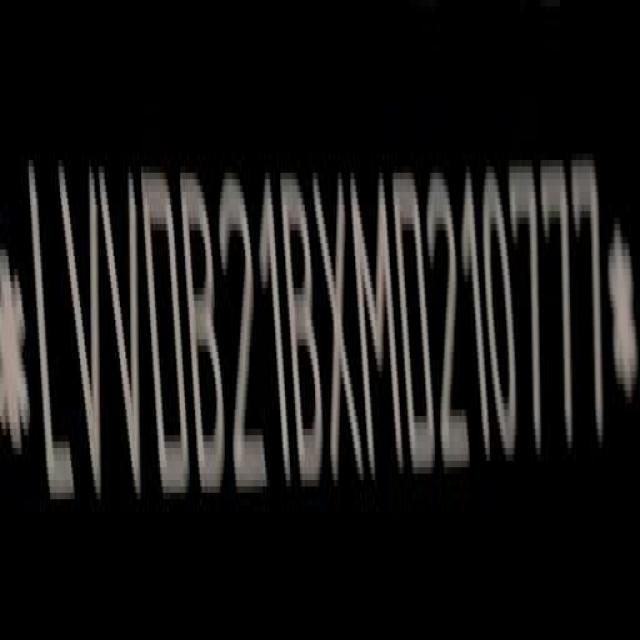0: (480, 161, 520, 472)
1: (254, 165, 296, 497), (457, 159, 495, 474)
2: (214, 166, 266, 504), (423, 161, 471, 480)
7: (568, 150, 614, 454), (510, 154, 551, 463), (540, 154, 581, 458)
B: (180, 168, 231, 504), (280, 159, 322, 483)
D: (138, 162, 192, 504), (394, 178, 436, 467)
L: (24, 154, 77, 506)
M: (347, 165, 406, 483)
V: (98, 159, 155, 504), (59, 157, 100, 490)
X: (311, 164, 363, 493)
